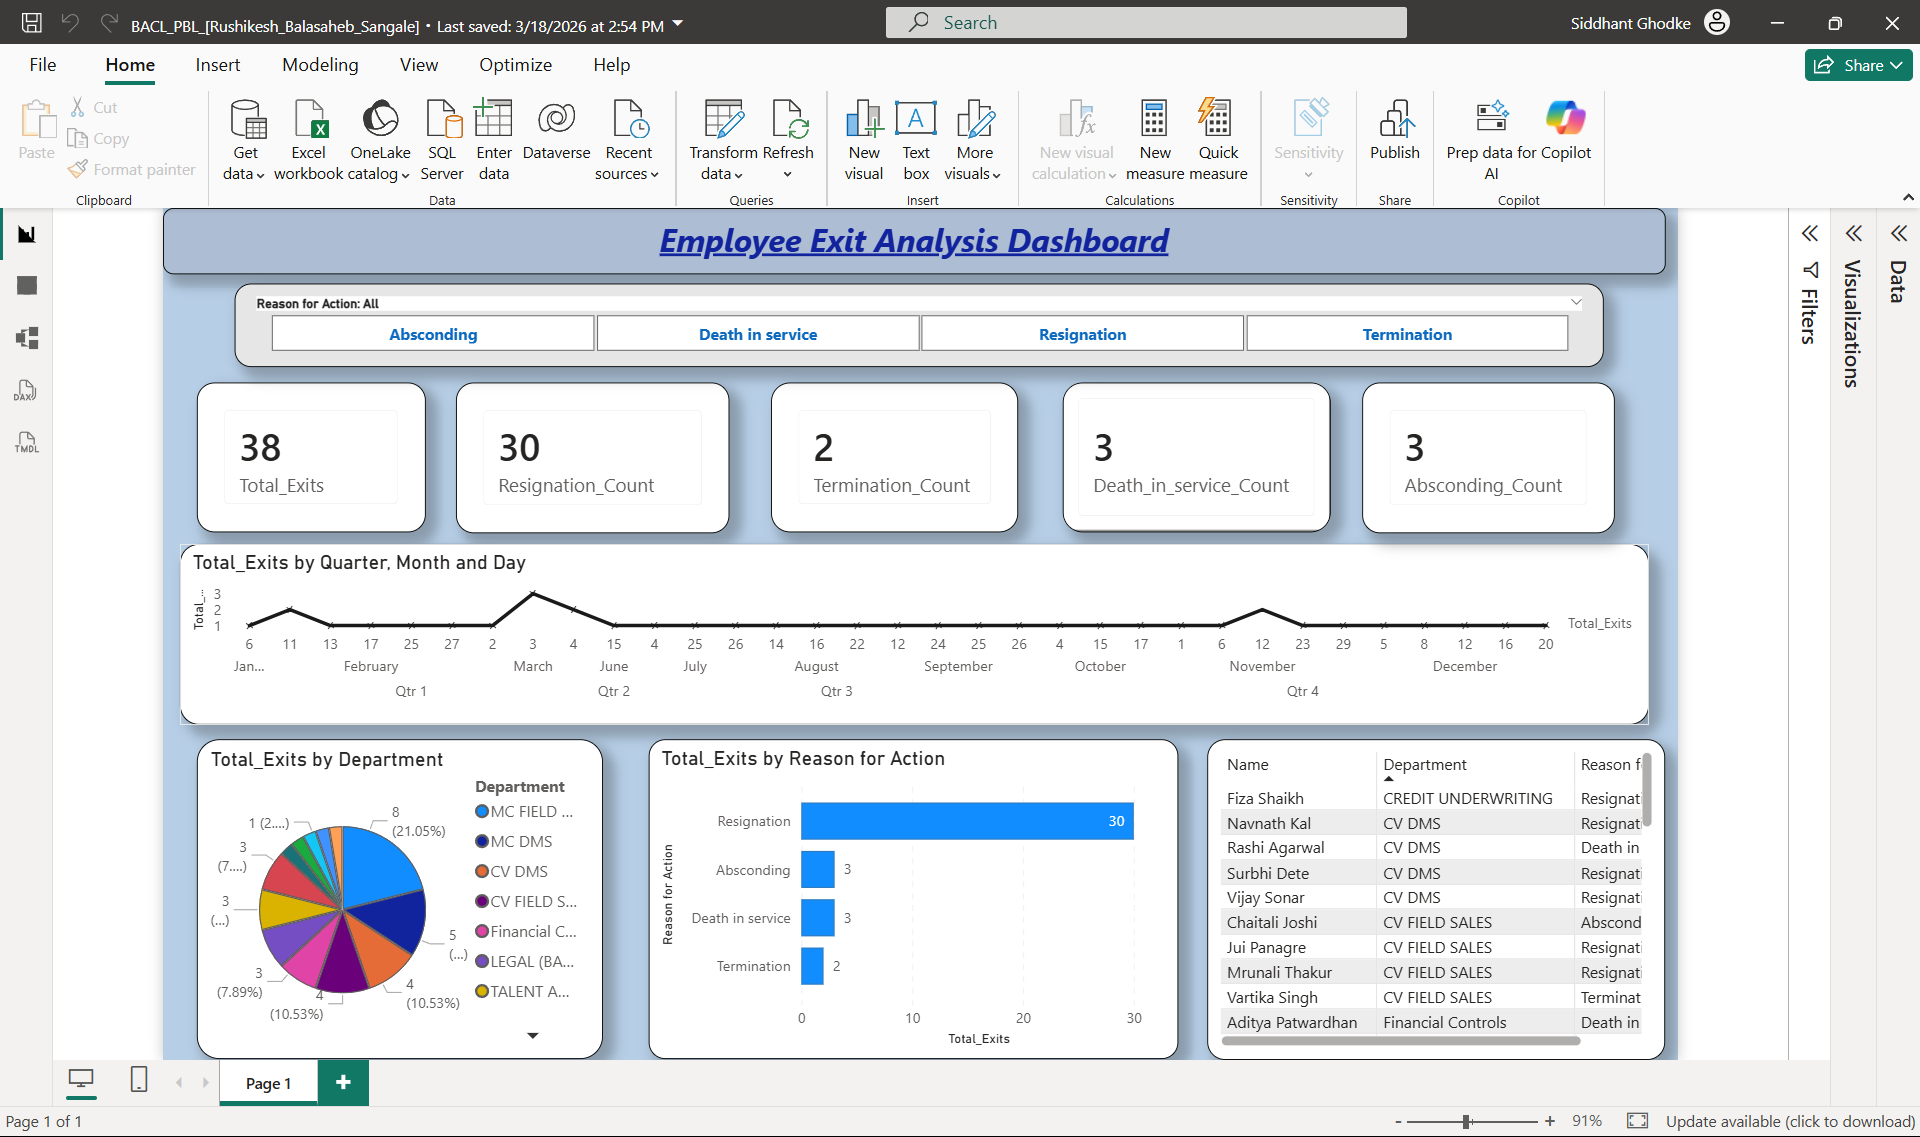

The dashboard page shown, as its layout file describes it:
{"tool":"powerbi","page":{"name":"Page 1","canvas":[1280,720],"ordinal":0},"visuals":[{"type":"textbox","box":[0,0,1270.2,56.1],"z":0},{"type":"cardVisual","fields":{"Data":["Sheet1.Total_Exits"]},"box":[28.6,147.5,193.7,126.6],"z":1000},{"type":"cardVisual","fields":{"Data":["Sheet1.Resignation_Count"]},"box":[247.7,147.5,231.1,127.7],"z":2000},{"type":"cardVisual","fields":{"Data":["Sheet1.Termination_Count"]},"box":[514,147.5,209.1,126.6],"z":3000},{"type":"cardVisual","fields":{"Data":["Sheet1.Death_in_service_Count"]},"box":[760.4,147.7,226.4,126.7],"z":4000},{"type":"lineChart","fields":{"Y":["Sheet1.Total_Exits"],"Category":["Sheet1.Approved Relieving Date.Variation.Date Hierarchy.Quarter","Sheet1.Approved Relieving Date.Variation.Date Hierarchy.Month","Sheet1.Approved Relieving Date.Variation.Date Hierarchy.Day"]},"box":[14.3,284,1241.6,153],"z":5000},{"type":"pieChart","fields":{"Y":["Sheet1.Total_Exits"],"Category":["Sheet1.Department"]},"box":[28.3,449.1,343.3,270.7],"z":6000},{"type":"clusteredBarChart","fields":{"Category":["Sheet1.Reason for Action"],"Y":["Sheet1.Total_Exits"]},"box":[411,449.1,447.9,270.7],"z":7000},{"type":"tableEx","fields":{"Values":["Sheet1.Name","Sheet1.Department","Sheet1.Reason for Action"]},"box":[882.7,449.1,387.4,270.8],"z":8000},{"type":"slicer","fields":{"Values":["Sheet1.Reason for Action"]},"box":[61,63.5,1157.5,70.4],"z":9000},{"type":"cardVisual","fields":{"Data":["Sheet1.Absconding_Count"]},"box":[1013.7,147.5,213.5,127.7],"z":10000}]}

Visuals, with their boxes on the page's 1280x720 design canvas (x1, y1, x2, y2). These are canvas units, not pixel positions in the 1920x1137 screenshot, which may show the page scaled, cropped or inside an application window:
textbox: <bbox>0, 0, 1270, 56</bbox>
cardVisual - Sheet1.Total_Exits: <bbox>29, 148, 222, 274</bbox>
cardVisual - Sheet1.Resignation_Count: <bbox>248, 148, 479, 275</bbox>
cardVisual - Sheet1.Termination_Count: <bbox>514, 148, 723, 274</bbox>
cardVisual - Sheet1.Death_in_service_Count: <bbox>760, 148, 987, 274</bbox>
lineChart - Sheet1.Total_Exits x Sheet1.Approved Relieving Date.Variation.Date Hierarchy.Quarter: <bbox>14, 284, 1256, 437</bbox>
pieChart - Sheet1.Total_Exits x Sheet1.Department: <bbox>28, 449, 372, 720</bbox>
clusteredBarChart - Sheet1.Reason for Action x Sheet1.Total_Exits: <bbox>411, 449, 859, 720</bbox>
tableEx - Sheet1.Name x Sheet1.Department: <bbox>883, 449, 1270, 720</bbox>
slicer - Sheet1.Reason for Action: <bbox>61, 64, 1218, 134</bbox>
cardVisual - Sheet1.Absconding_Count: <bbox>1014, 148, 1227, 275</bbox>
